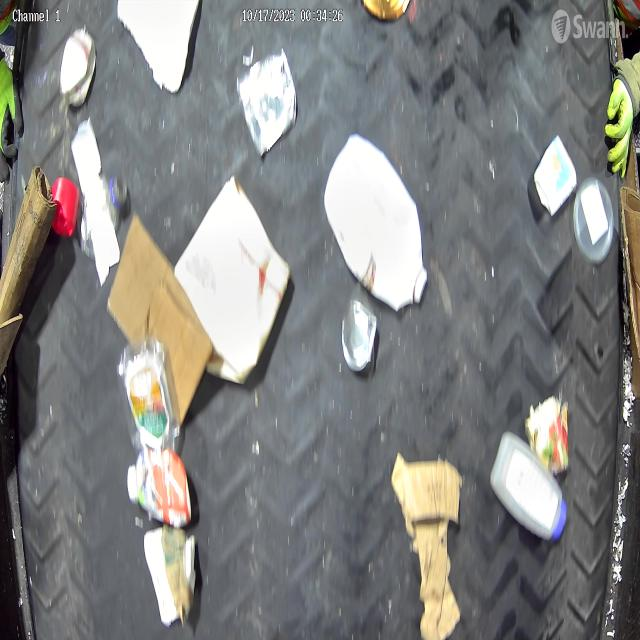can: (236, 46, 298, 159), (341, 295, 379, 373)
milk_jug: (323, 130, 429, 316)
